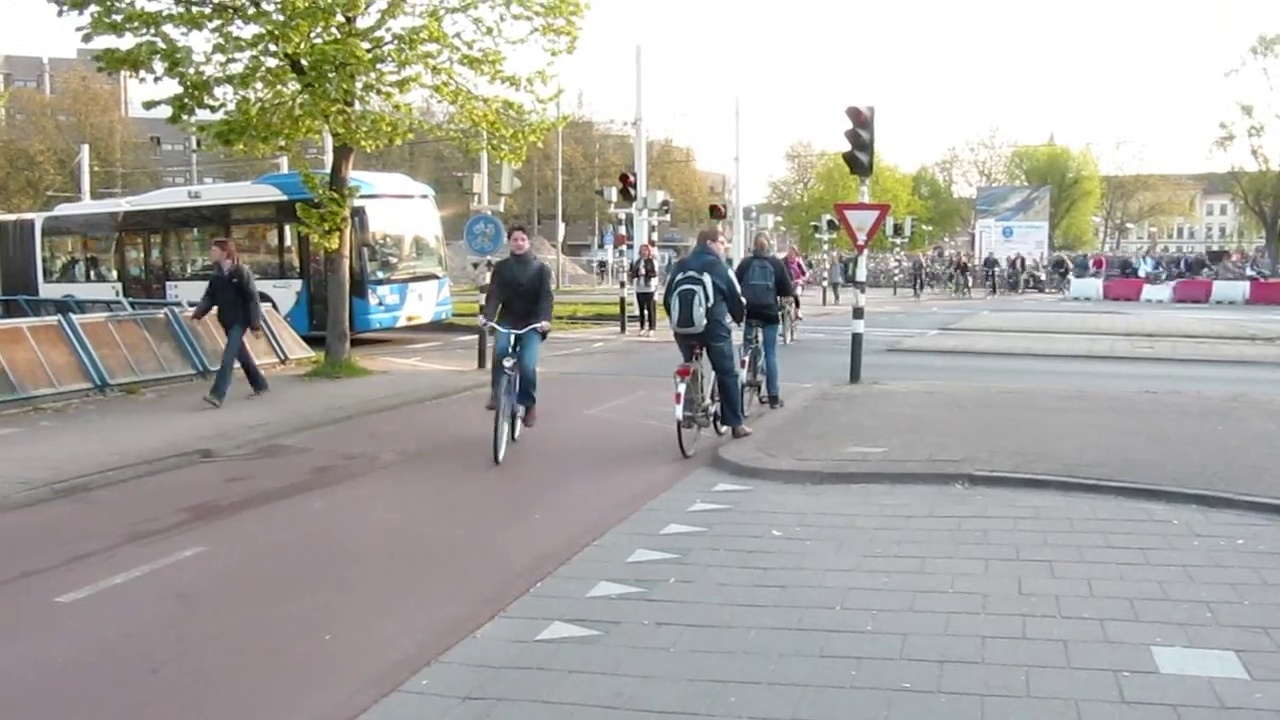cyclist_back: (671, 217, 747, 463), (737, 227, 787, 418)
cyclist_front: (476, 223, 547, 464)
